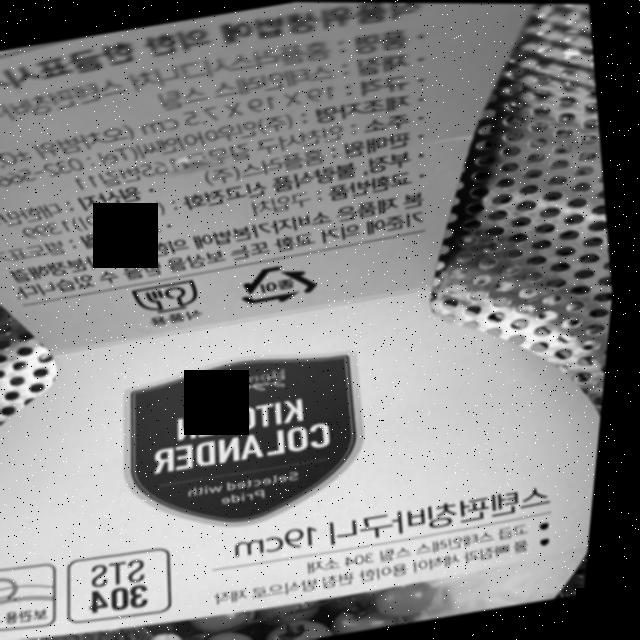Paper: (240, 256, 327, 311)
